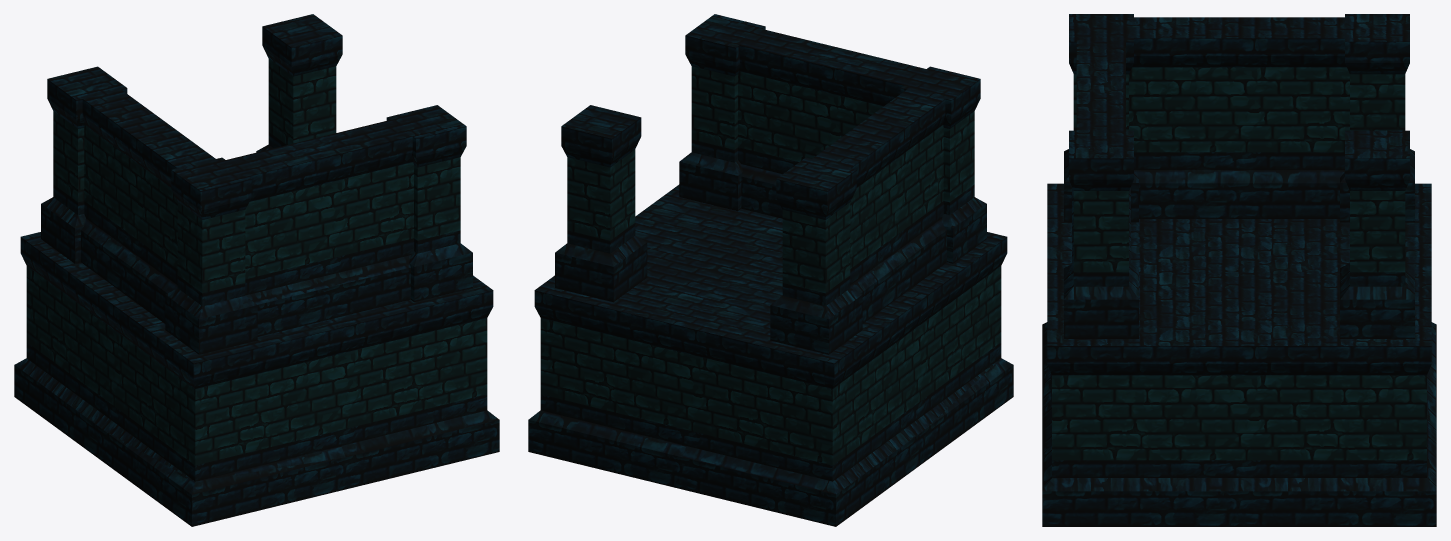
Rendered from dungeon-tile-corner.glb.
3 views of the same model, side by side, from view 1: azimuth 30°, elevation 25°; view 2: azimuth 150°, elevation 25°; view 3: azimuth 270°, elevation 25° (orthographic). The views are drawn at different scales.
Visible parts, largest first — view 1: mergedBlocks(Clone); view 2: mergedBlocks(Clone); view 3: mergedBlocks(Clone).
Part boxes in pixels (<box>): mergedBlocks(Clone): <box>14,14,499,526</box>; mergedBlocks(Clone): <box>528,14,1013,526</box>; mergedBlocks(Clone): <box>1042,14,1436,526</box>.
Size of the model in its own units: 2 by 2 by 2.
Materials: 2 (2 with a texture image).
